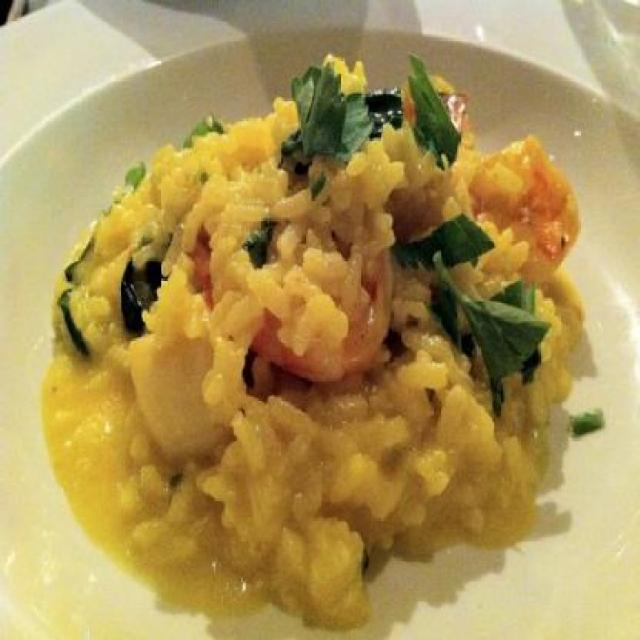Risotto: (62, 103, 600, 622)
